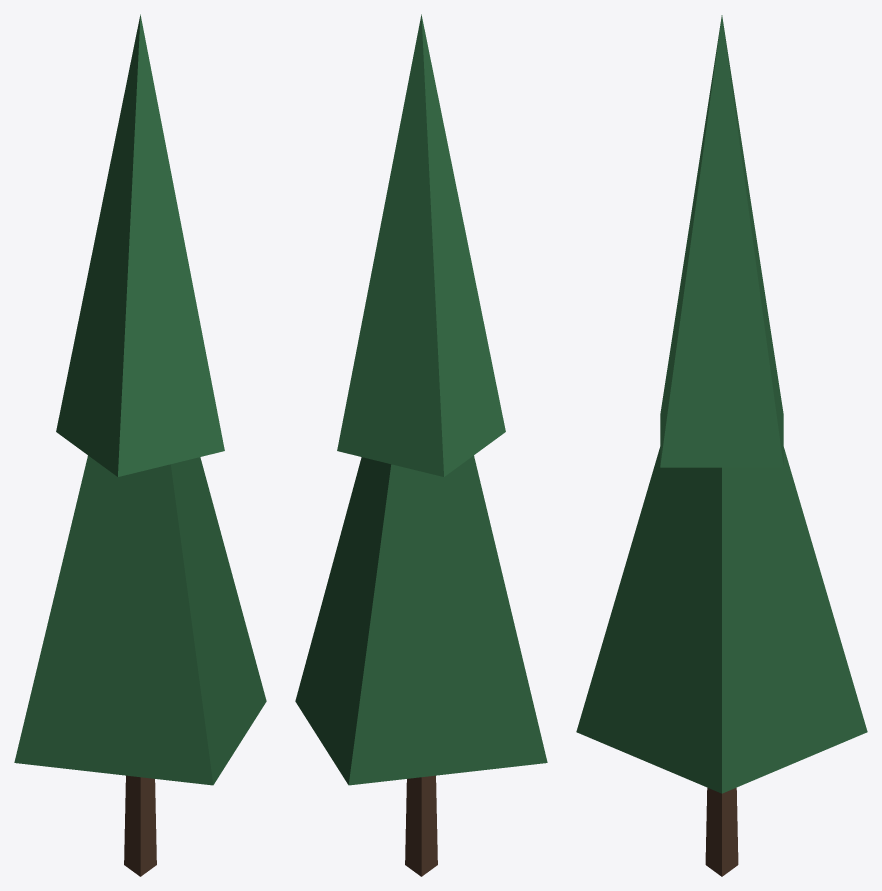
The model's file is conifer_b_lod2.glb.
3 views of the same model, side by side, from view 1: azimuth 30°, elevation 25°; view 2: azimuth 150°, elevation 25°; view 3: azimuth 270°, elevation 25° (orthographic).
Parts seen in each view (by area): view 1: conifer; view 2: conifer; view 3: conifer.
Part boxes in pixels (box(x1,y1,x2,y2)): conifer: box(14, 14, 266, 876); conifer: box(295, 14, 547, 876); conifer: box(576, 15, 867, 876).
Size of the model in its own units: 4.61 by 14.91 by 4.61.
